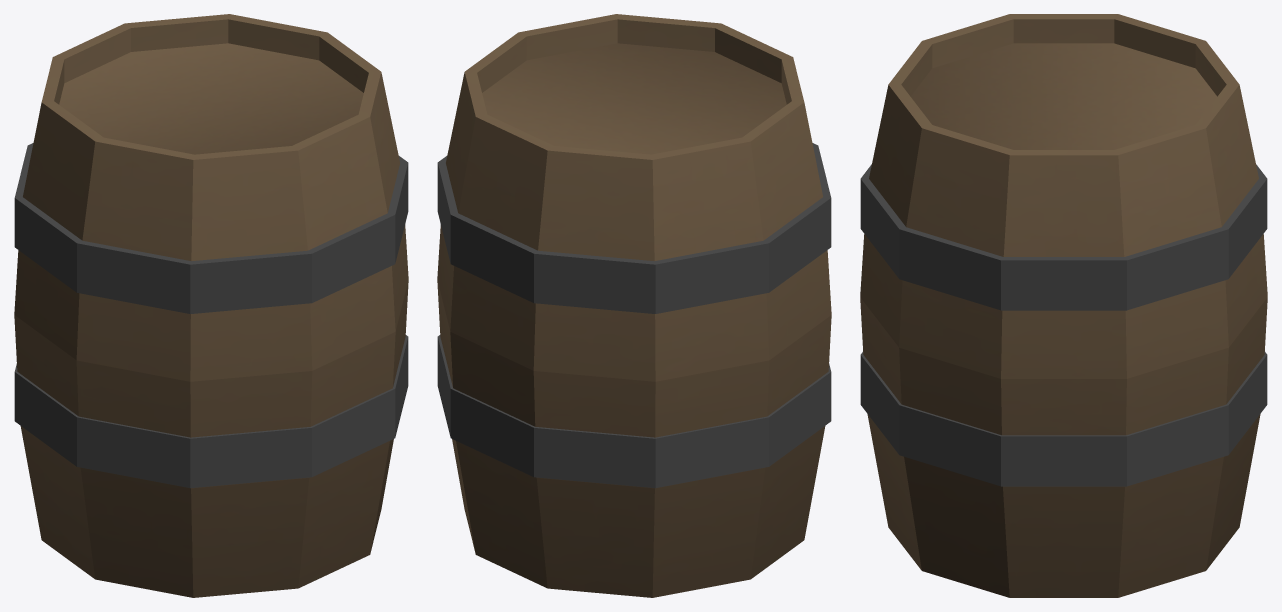
File: ZLP_Build_D_27.FBX
3 views of the same model, side by side, from view 1: azimuth 30°, elevation 25°; view 2: azimuth 150°, elevation 25°; view 3: azimuth 270°, elevation 25° (orthographic).
Parts seen in each view (by area): view 1: ZLP_Build_D_27; view 2: ZLP_Build_D_27; view 3: ZLP_Build_D_27.
Part boxes in pixels (x1,y1,x2,y2): ZLP_Build_D_27: [14, 14, 408, 597]; ZLP_Build_D_27: [437, 14, 831, 597]; ZLP_Build_D_27: [860, 14, 1267, 597].
Bounding box in the file's own units: 25.36 × 31.96 × 26.66.
